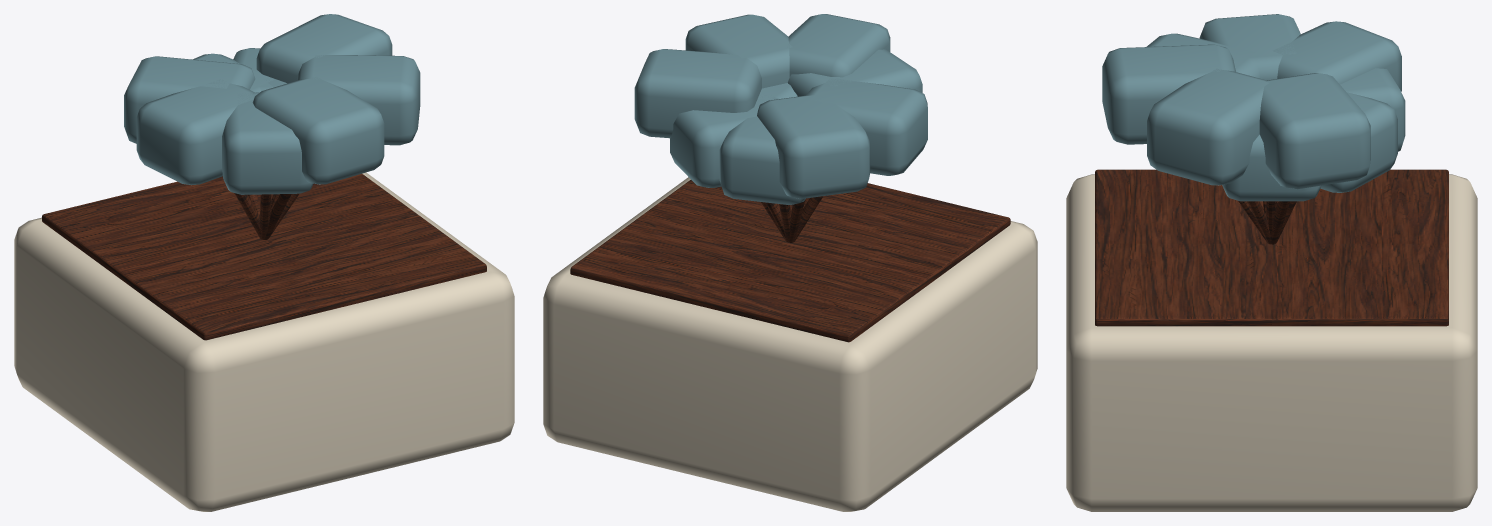
Rendered from hotel_lobby_0.glb.
3 renders of one model, left to right at view 1: azimuth 30°, elevation 25°; view 2: azimuth 150°, elevation 25°; view 3: azimuth 270°, elevation 25°, orthographic. The views are drawn at different scales.
Visible parts, largest first — view 1: hotel_lobby_container, hotel_lobby_soil, hotel_lobby_leaf_cluster.002, hotel_lobby_leaf_cluster.004, hotel_lobby_leaf_cluster.007, hotel_lobby_leaf_cluster.005, hotel_lobby_leaf_cluster.008, hotel_lobby_leaf_cluster.001; view 2: hotel_lobby_container, hotel_lobby_soil, hotel_lobby_leaf_cluster.001, hotel_lobby_leaf_cluster.008, hotel_lobby_leaf_cluster.004, hotel_lobby_leaf_cluster.002, hotel_lobby_leaf_cluster.006, hotel_lobby_leaf_cluster.005, hotel_lobby_leaf_cluster.003, hotel_lobby_leaf_cluster.007; view 3: hotel_lobby_container, hotel_lobby_soil, hotel_lobby_leaf_cluster.008, hotel_lobby_leaf_cluster.005, hotel_lobby_leaf_cluster.002, hotel_lobby_leaf_cluster.001, hotel_lobby_leaf_cluster.004, hotel_lobby_leaf_cluster.003, hotel_lobby_leaf_cluster, hotel_lobby_leaf_cluster.006, hotel_lobby_leaf_cluster.007.
Boxes of the visible parts, <box> form: hotel_lobby_container: <box>14,172,514,511</box>; hotel_lobby_soil: <box>42,173,486,340</box>; hotel_lobby_leaf_cluster.002: <box>252,76,384,184</box>; hotel_lobby_leaf_cluster.004: <box>136,79,255,185</box>; hotel_lobby_leaf_cluster.007: <box>222,92,312,194</box>; hotel_lobby_leaf_cluster.005: <box>297,55,420,145</box>; hotel_lobby_leaf_cluster.008: <box>256,14,392,83</box>; hotel_lobby_leaf_cluster.001: <box>124,56,255,143</box>; hotel_lobby_container: <box>543,177,1037,511</box>; hotel_lobby_soil: <box>570,180,1010,342</box>; hotel_lobby_leaf_cluster.001: <box>757,94,870,198</box>; hotel_lobby_leaf_cluster.008: <box>634,49,761,138</box>; hotel_lobby_leaf_cluster.004: <box>806,77,927,175</box>; hotel_lobby_leaf_cluster.002: <box>787,14,890,77</box>; hotel_lobby_leaf_cluster.006: <box>719,116,805,204</box>; hotel_lobby_leaf_cluster.005: <box>685,14,792,88</box>; hotel_lobby_leaf_cluster.003: <box>670,95,778,187</box>; hotel_lobby_leaf_cluster.007: <box>788,49,922,96</box>; hotel_lobby_container: <box>1066,174,1477,511</box>; hotel_lobby_soil: <box>1095,169,1448,326</box>; hotel_lobby_leaf_cluster.008: <box>1259,73,1370,189</box>; hotel_lobby_leaf_cluster.005: <box>1147,68,1269,185</box>; hotel_lobby_leaf_cluster.002: <box>1102,44,1235,144</box>; hotel_lobby_leaf_cluster.001: <box>1272,21,1401,91</box>; hotel_lobby_leaf_cluster.004: <box>1199,14,1300,80</box>; hotel_lobby_leaf_cluster.003: <box>1320,92,1397,192</box>; hotel_lobby_leaf_cluster: <box>1222,134,1321,201</box>; hotel_lobby_leaf_cluster.006: <box>1340,68,1405,151</box>; hotel_lobby_leaf_cluster.007: <box>1146,33,1260,78</box>.
Size of the model in its own units: 1.3 by 1.32 by 1.3.
Materials: 3 (1 with a texture image).
